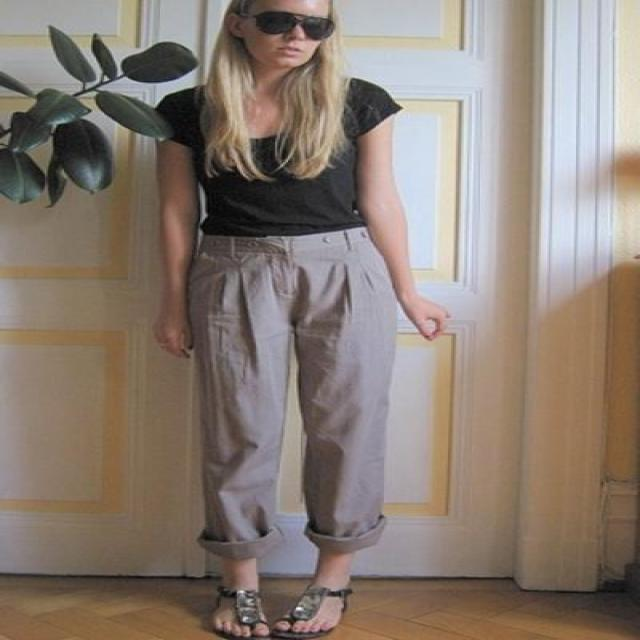pants: (182, 226, 414, 599)
shirt: (155, 78, 402, 237)
shoe: (214, 595, 341, 636)
sunglass: (254, 10, 334, 42)
